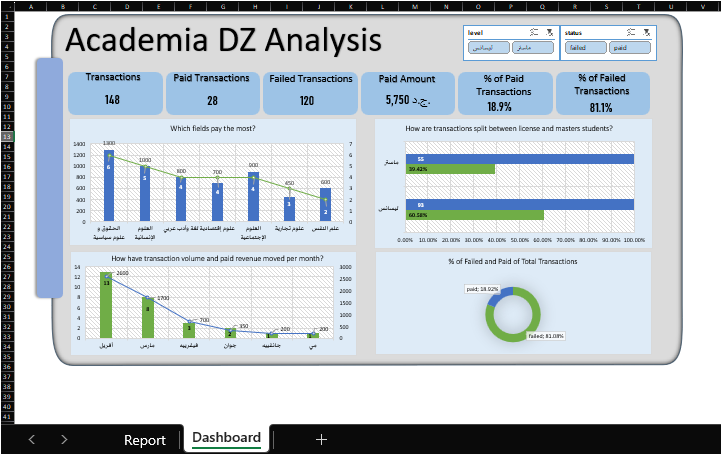

What the dashboard file says about the page in this screenshot:
{"tool":"powerbi","page":{"name":"Dashboard","canvas":[1920,1080],"ordinal":0},"visuals":[{"type":"cardVisual","title":"Total of Transactions","fields":{"Data":["orders_rows.Total Transactions"]},"box":[251.2,174.4,379.1,123.3],"z":0},{"type":"cardVisual","title":"Total Amount of Paid Transactions","fields":{"Data":["orders_rows.Paid Amounts"]},"box":[676.7,174.4,392,123],"z":1000},{"type":"cardVisual","title":"% Paid Transactions","fields":{"Data":["orders_rows.% of Paid Transactions"]},"box":[1084.2,175.1,386,123.3],"z":2000},{"type":"cardVisual","title":"% Failed Transactions","fields":{"Data":["orders_rows.% of Failed Transactions"]},"box":[1502.3,174.4,400,122.2],"z":3000},{"type":"donutChart","title":"% of Failed and Paid of Total Transactions","fields":{"Y":["orders_rows.Total Transactions"],"Category":["orders_rows.status"]},"box":[1083.7,318.6,818.6,386],"z":4000},{"type":"lineStackedColumnComboChart","title":"How have transaction volume and paid revenue moved per month?","fields":{"Y":["orders_rows.Paid Amounts"],"Category":["orders_rows.created_at.Variation.Date Hierarchy.Month"],"Y2":["orders_rows.Total Paid Transactions"]},"box":[248.1,319,821.6,386.1],"z":5000},{"type":"textbox","box":[250,50,1107.1,95.9],"z":6000},{"type":"shape","box":[248.1,50,1223.9,108.4],"z":7000},{"type":"barChart","title":"Which Fields pay the most?","fields":{"Category":["orders_rows.field"],"Series":["orders_rows.status"],"Y":["Sum(orders_rows.amount)"]},"box":[243.9,719.3,826.7,351.1],"z":8000},{"type":"pieChart","fields":{"Category":["orders_rows.level"],"Y":["orders_rows.Total Transactions"]},"box":[1083.7,723.3,818.6,346.5],"z":9000},{"type":"image","box":[1294.7,73,92.3,73.1],"z":10000},{"type":"actionButton","box":[0,49.5,125,75.3],"z":13000}]}

Visuals, with their boxes on the page's 1920x1080 design canvas (x1, y1, x2, y2). These are canvas units, not pixel positions in the 722x455 screenshot, which may show the page scaled, cropped or inside an application window:
"Total of Transactions" cardVisual: Rect(251, 174, 630, 298)
"Total Amount of Paid Transactions" cardVisual: Rect(677, 174, 1069, 297)
"% Paid Transactions" cardVisual: Rect(1084, 175, 1470, 298)
"% Failed Transactions" cardVisual: Rect(1502, 174, 1902, 297)
"% of Failed and Paid of Total Transactions" donutChart: Rect(1084, 319, 1902, 705)
"How have transaction volume and paid revenue moved per month?" lineStackedColumnComboChart: Rect(248, 319, 1070, 705)
textbox: Rect(250, 50, 1357, 146)
shape: Rect(248, 50, 1472, 158)
"Which Fields pay the most?" barChart: Rect(244, 719, 1071, 1070)
pieChart - orders_rows.level x orders_rows.Total Transactions: Rect(1084, 723, 1902, 1070)
image: Rect(1295, 73, 1387, 146)
actionButton: Rect(0, 50, 125, 125)
